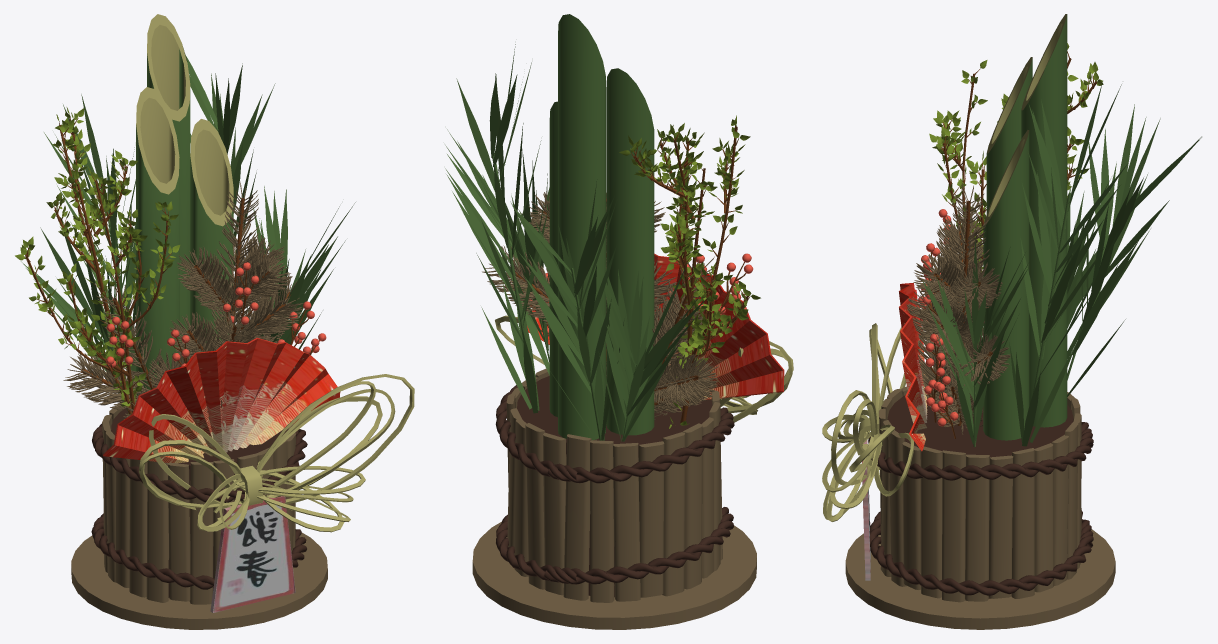
Rendered from obj_kadomatsu_qd3_christmas_comp_5ffd0a.glb.
3 renders of one model, left to right at view 1: azimuth 30°, elevation 25°; view 2: azimuth 150°, elevation 25°; view 3: azimuth 270°, elevation 25°, orthographic. The views are drawn at different scales.
Parts seen in each view (by area): view 1: obj_kadomatsu_qd3_christmas_comp_5ffd0a; view 2: obj_kadomatsu_qd3_christmas_comp_5ffd0a; view 3: obj_kadomatsu_qd3_christmas_comp_5ffd0a.
Boxes of the visible parts, left/top/right/bottom form: obj_kadomatsu_qd3_christmas_comp_5ffd0a: left=15, top=14, right=414, bottom=629; obj_kadomatsu_qd3_christmas_comp_5ffd0a: left=445, top=14, right=793, bottom=629; obj_kadomatsu_qd3_christmas_comp_5ffd0a: left=822, top=14, right=1201, bottom=629.
Bounding box in the file's own units: 0.2559 × 0.45 × 0.2787.
Materials: 9 (2 with a texture image).
